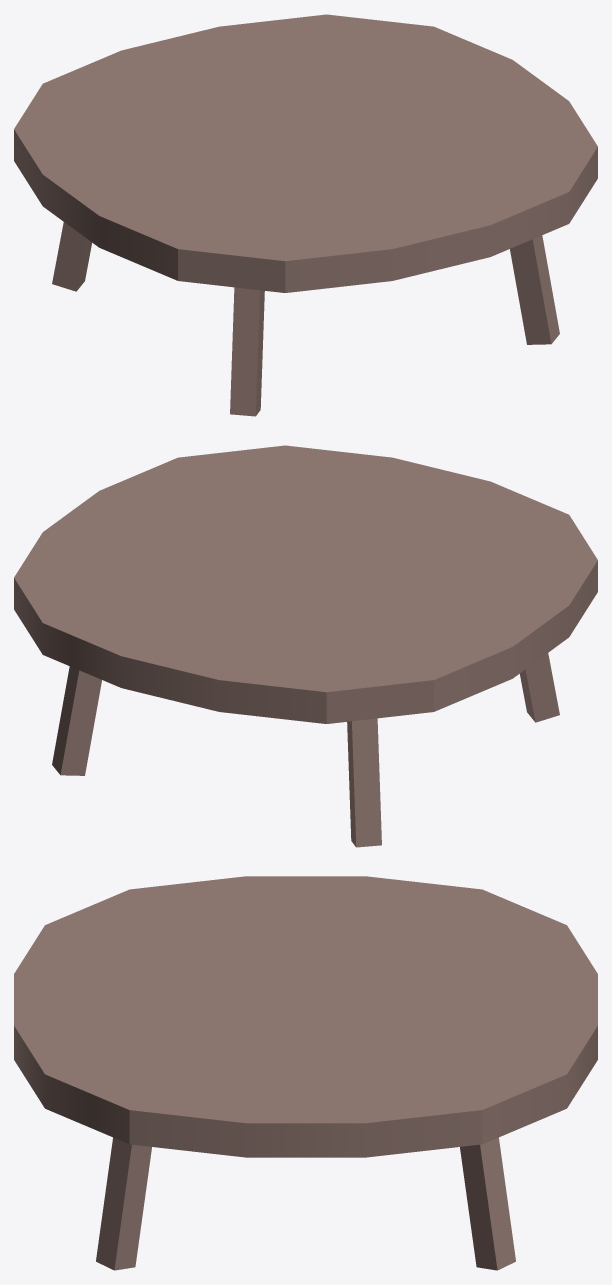
Rendered from Table.fbx.
3 views of the same model, one above another, from view 1: azimuth 30°, elevation 25°; view 2: azimuth 150°, elevation 25°; view 3: azimuth 270°, elevation 25° (orthographic). The views are drawn at different scales.
Parts seen in each view (by area): view 1: table; view 2: table; view 3: table.
Part boxes in pixels (bbox=[...]): table: bbox=[14, 14, 597, 416]; table: bbox=[14, 445, 597, 847]; table: bbox=[14, 876, 597, 1270].
Bounding box in the file's own units: 268 × 268 × 95.45.
